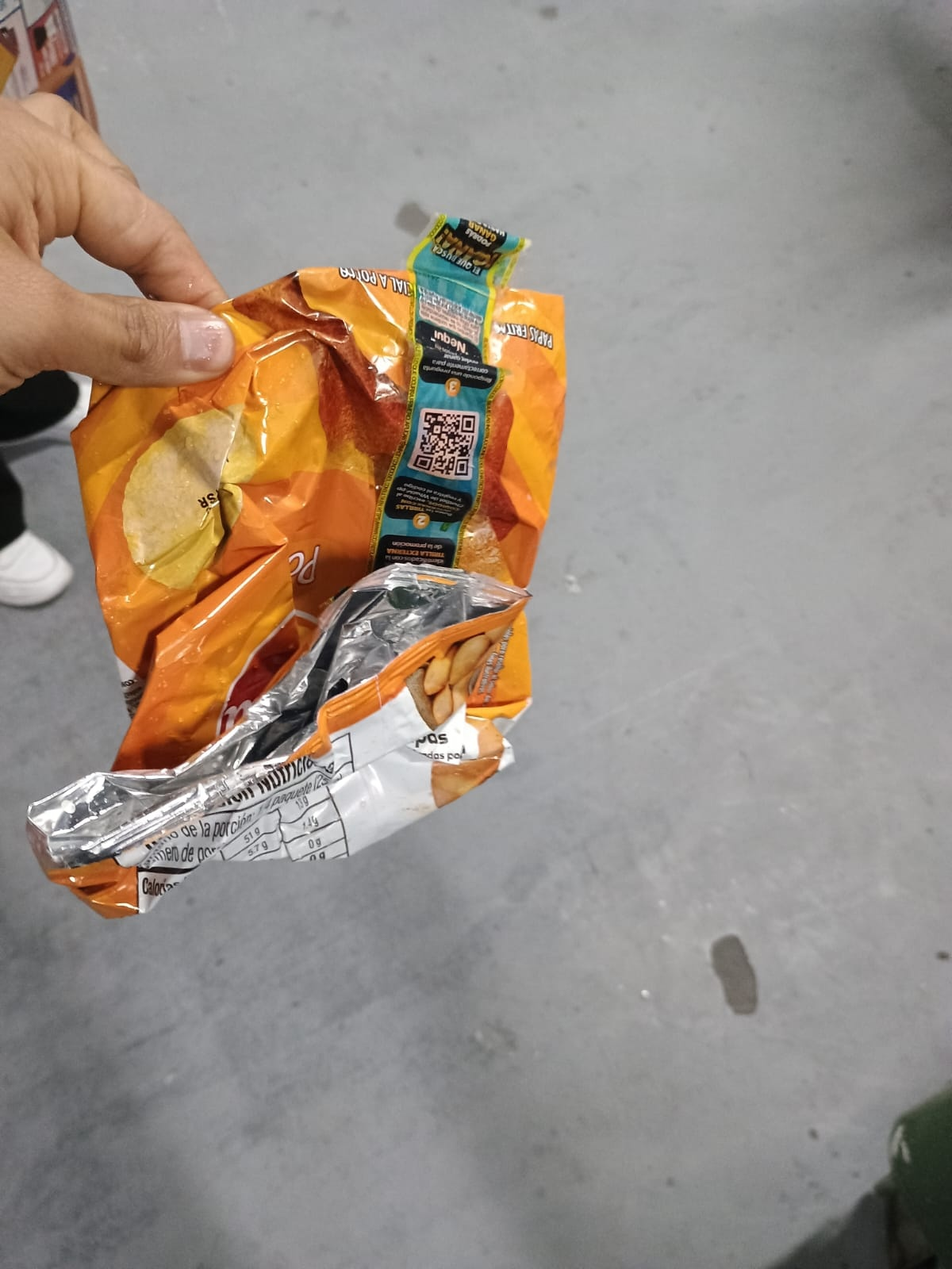Ordinario: (27, 214, 568, 920)
